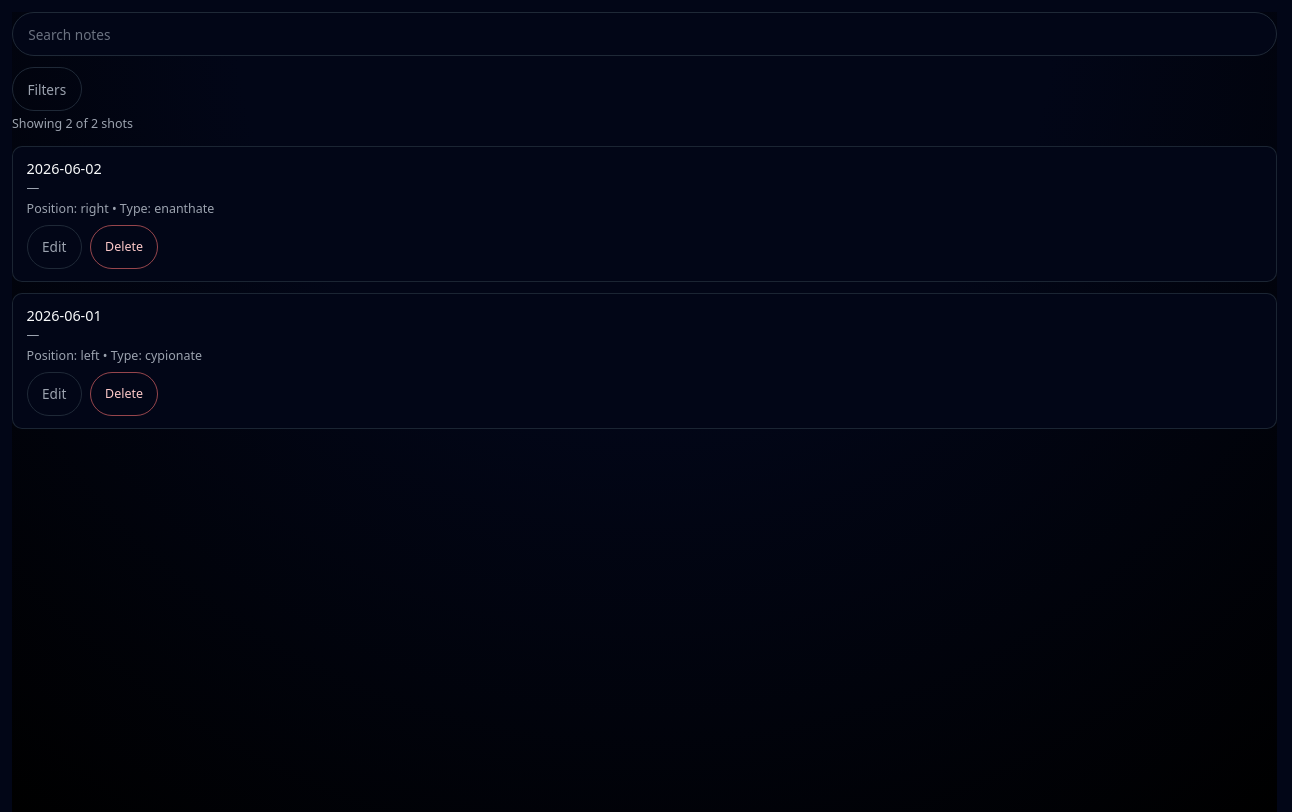
Test: HistoryView › filters by position and by type of T
The width and height of the screenshot is (1292, 812).
Step 1. Click the button "Filters" → (47, 89), box [12, 67, 82, 111]
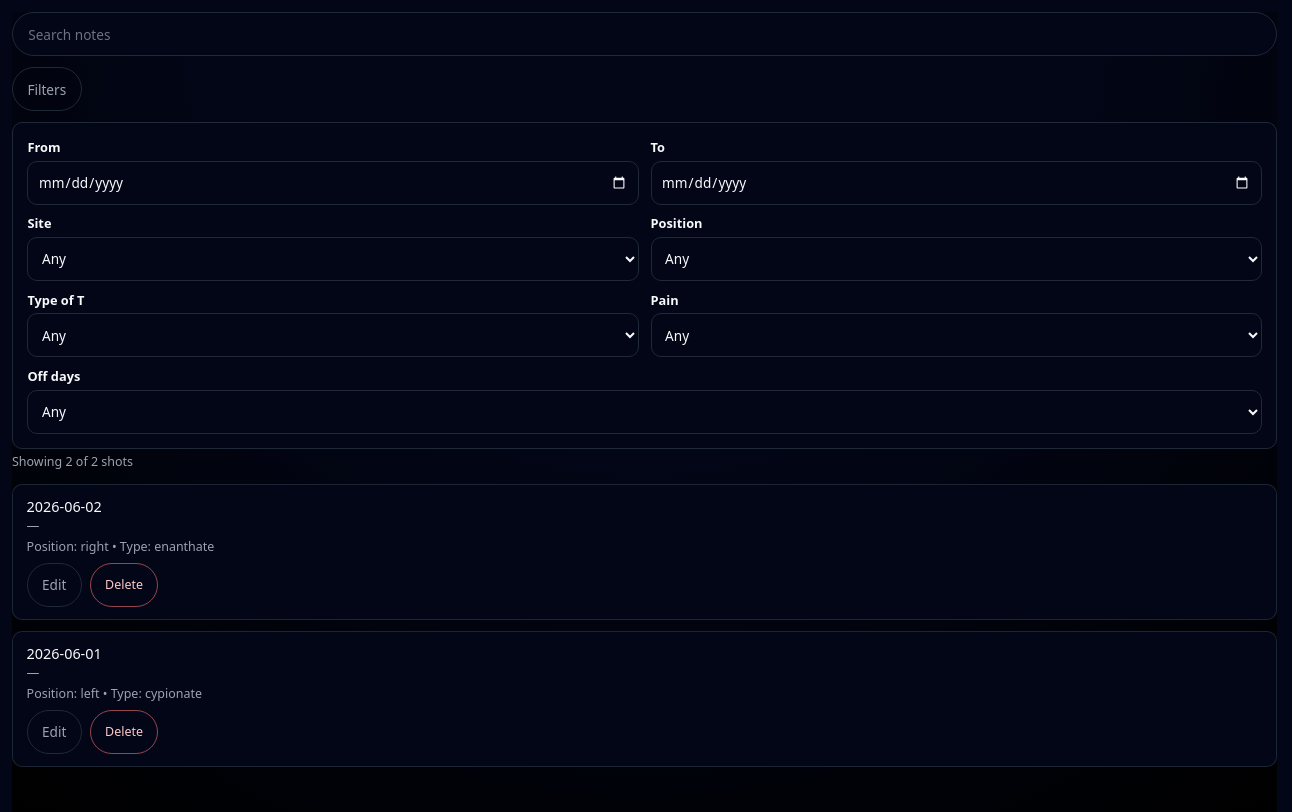
Step 2. Select "left" in the dropdown labelled "Position" → (956, 259), box [650, 237, 1262, 281]
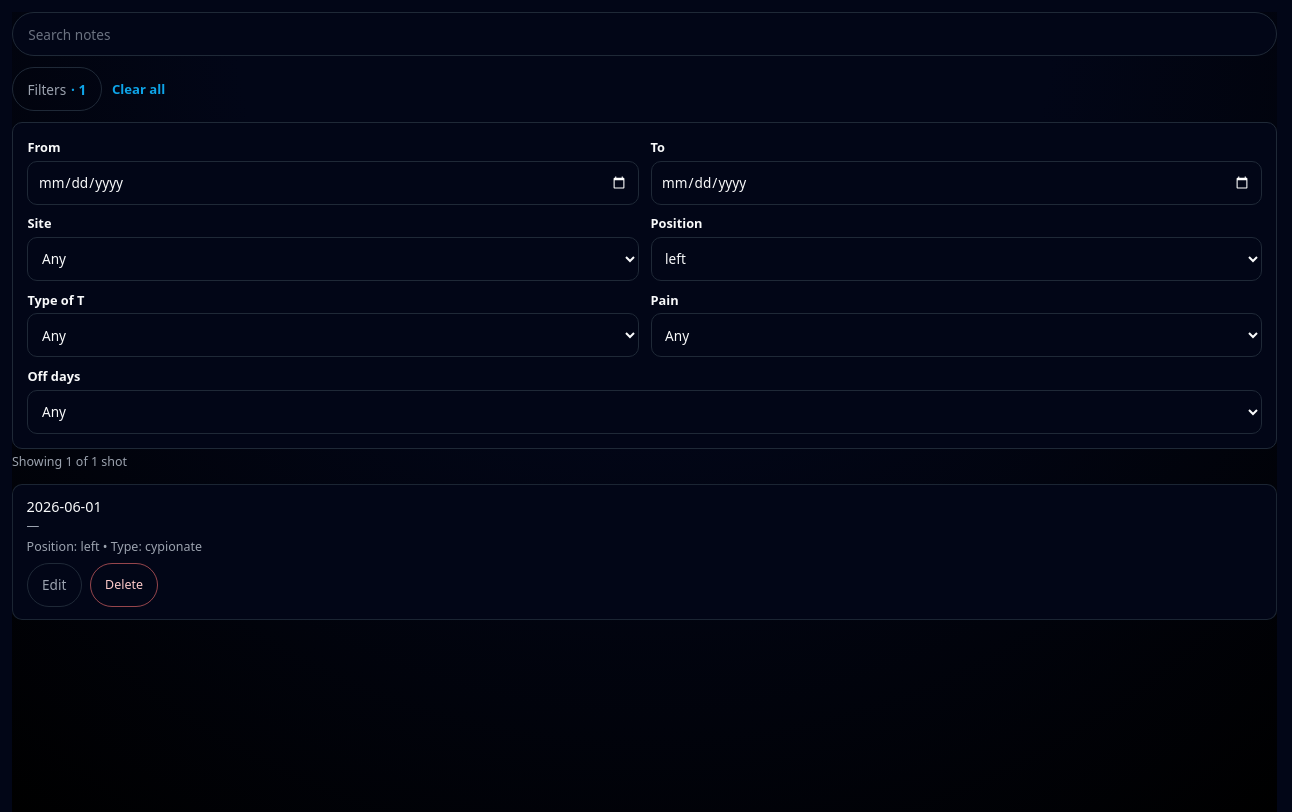
Expected: the text "Showing 1 of 1 shot" is shown, [12, 453, 127, 470]
Step 3. Select "Any" in the dropdown labelled "Position" → (956, 259), box [650, 237, 1262, 281]
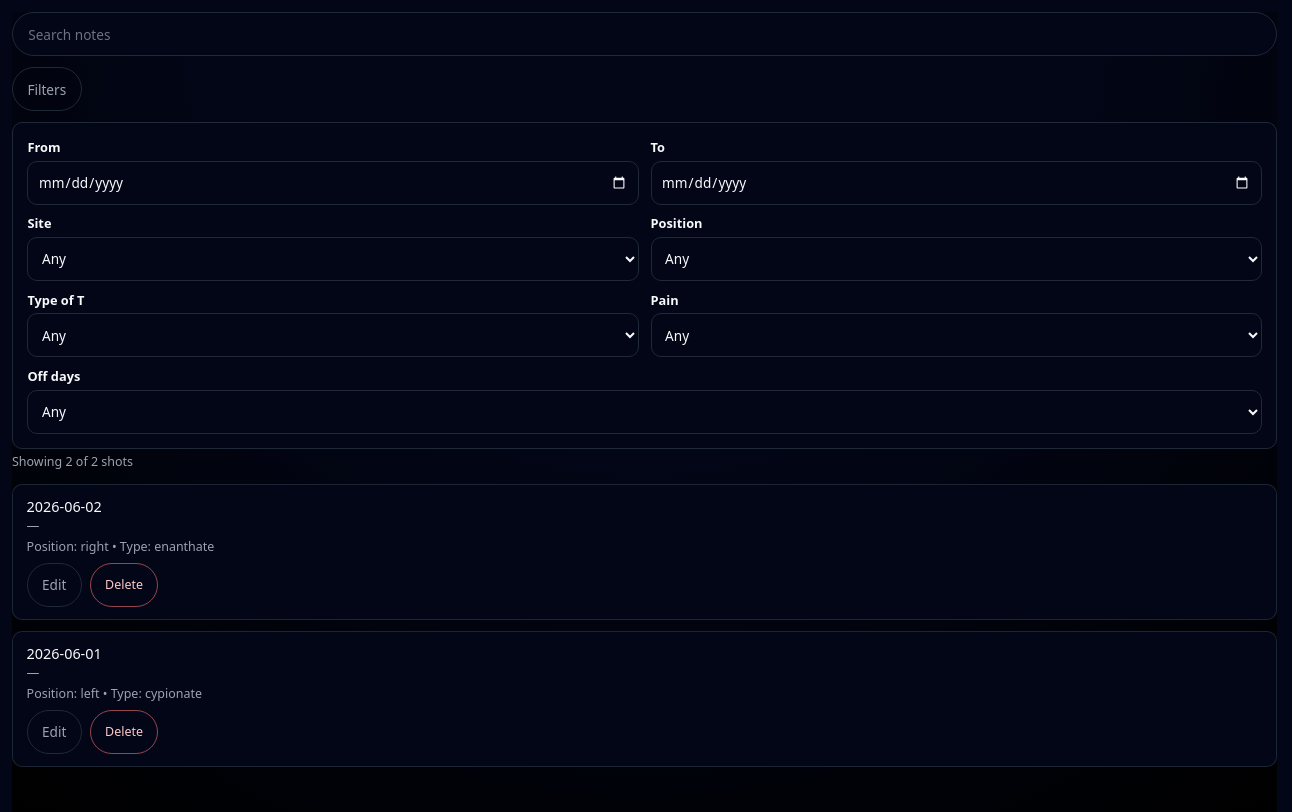
Step 4. Select "enanthate" in the dropdown labelled "Type of T" → (333, 335), box [27, 313, 638, 357]
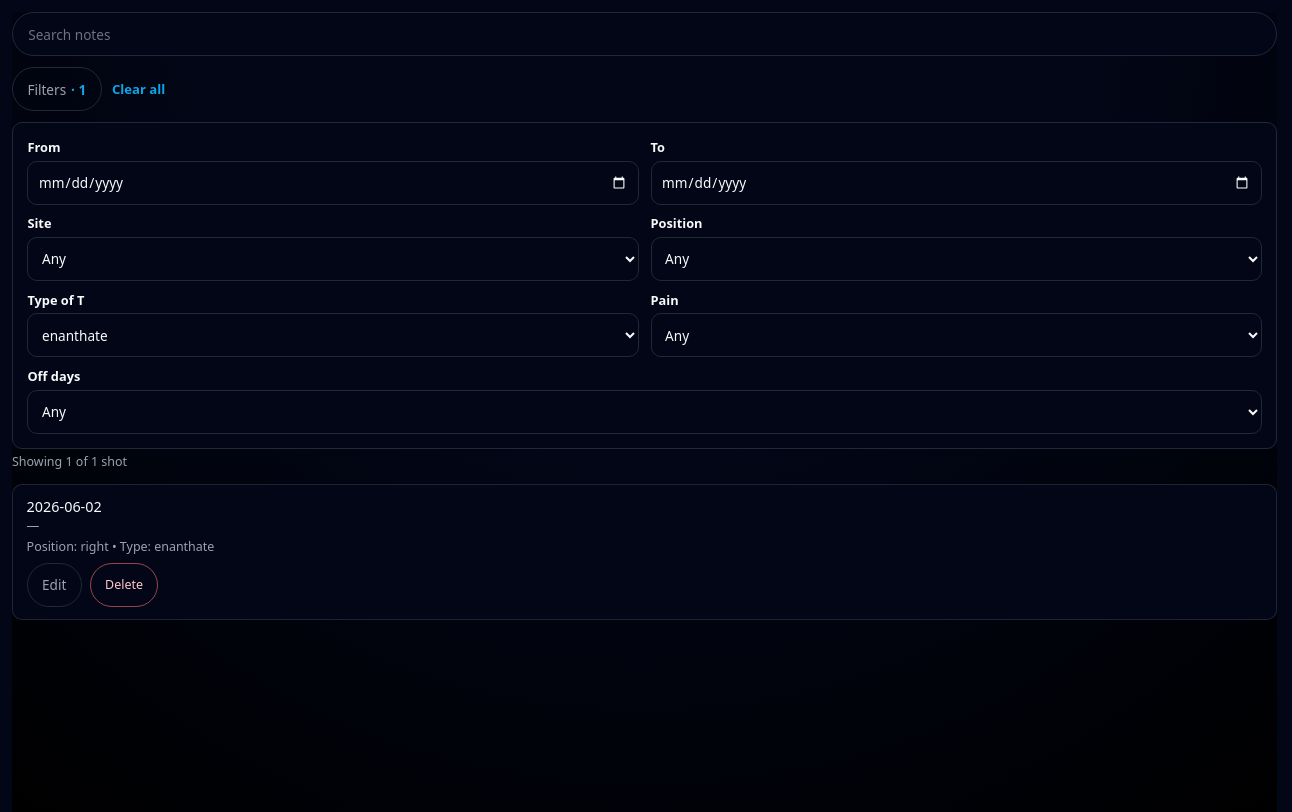
Expected: the text "Showing 1 of 1 shot" is shown, [12, 453, 127, 470]
